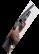gun: (1, 0, 39, 54)
